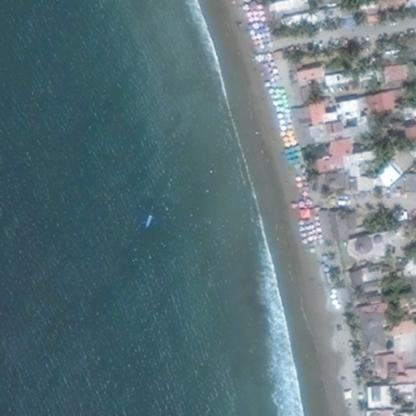ship: (138, 208, 159, 229)
